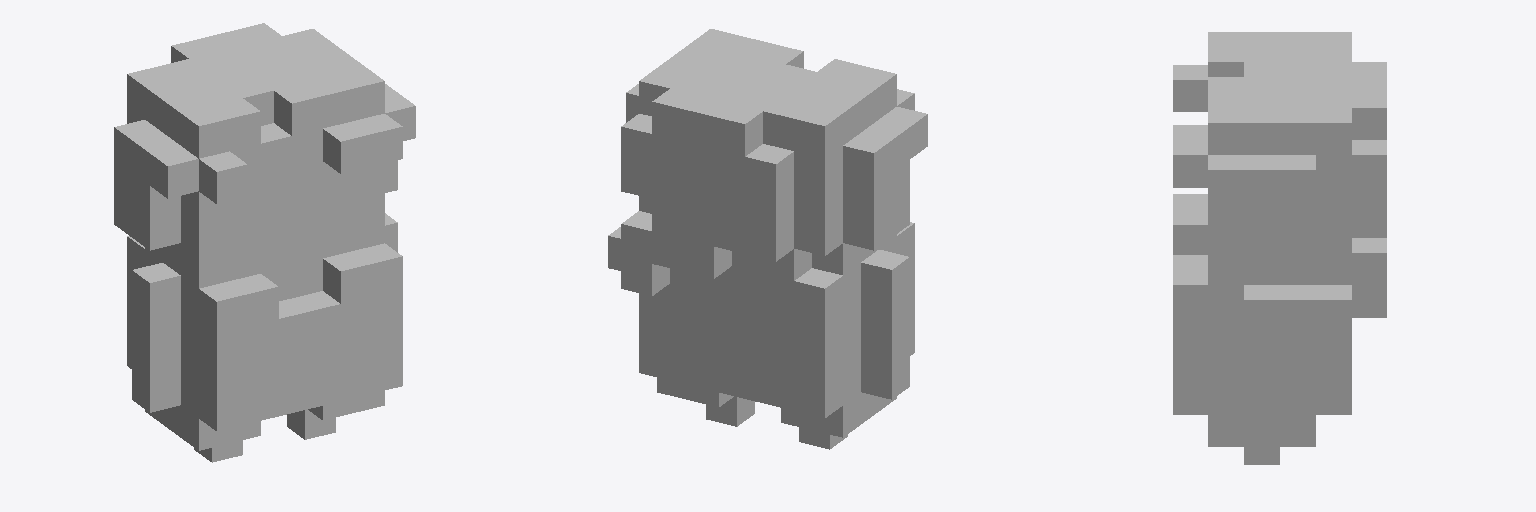
File: chr_lady4.obj
3 renders of one model, left to right at view 1: azimuth 30°, elevation 25°; view 2: azimuth 150°, elevation 25°; view 3: azimuth 270°, elevation 25°, orthographic.
Parts seen in each view (by area): view 1: object 1; view 2: object 1; view 3: object 1.
Part boxes in pixels (bbox=[...]): object 1: bbox=[114, 23, 415, 462]; object 1: bbox=[608, 29, 927, 449]; object 1: bbox=[1173, 32, 1386, 464].
Bounding box in the file's own units: 0.8 × 1.1 × 0.6.